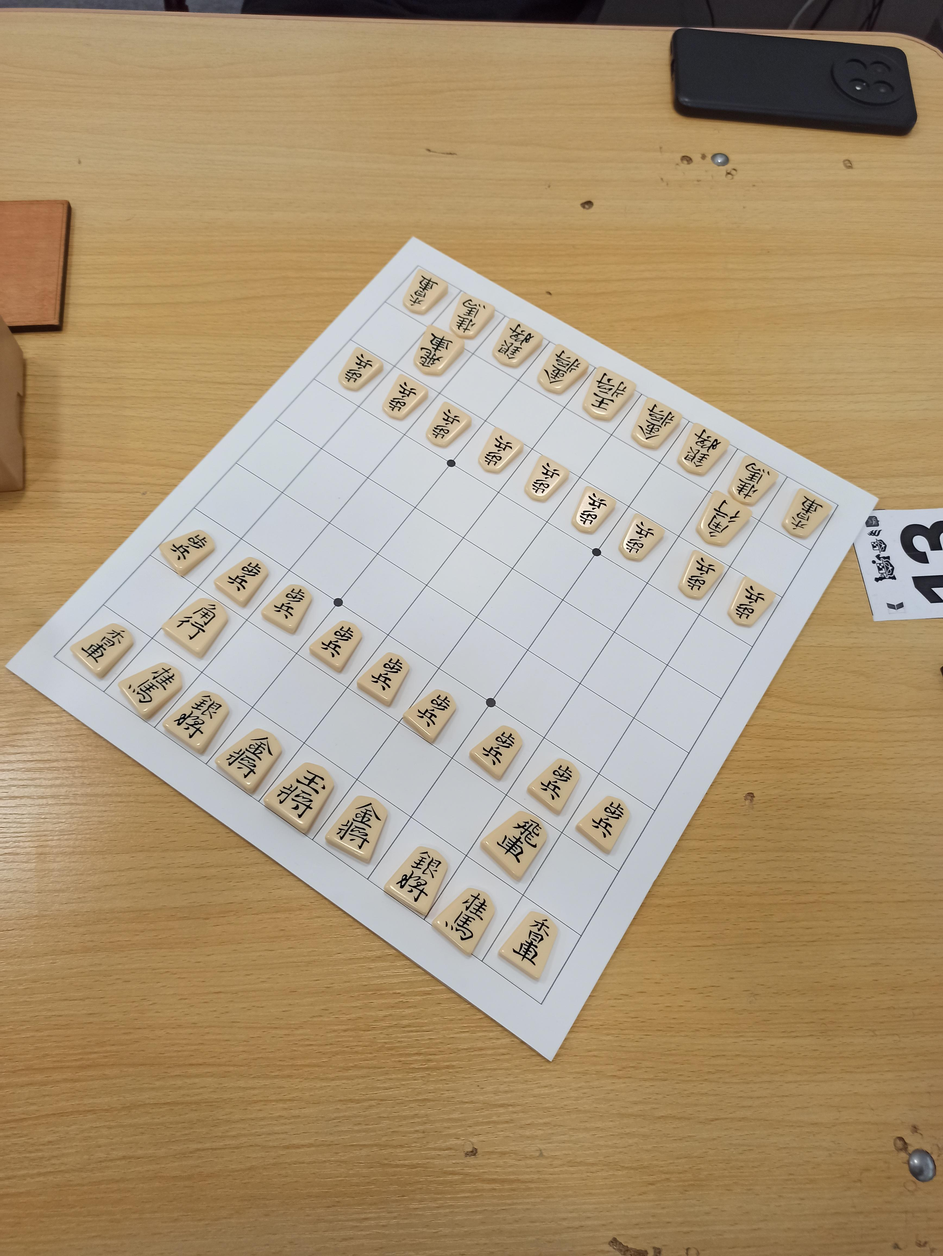board: (55, 268, 837, 1004)
